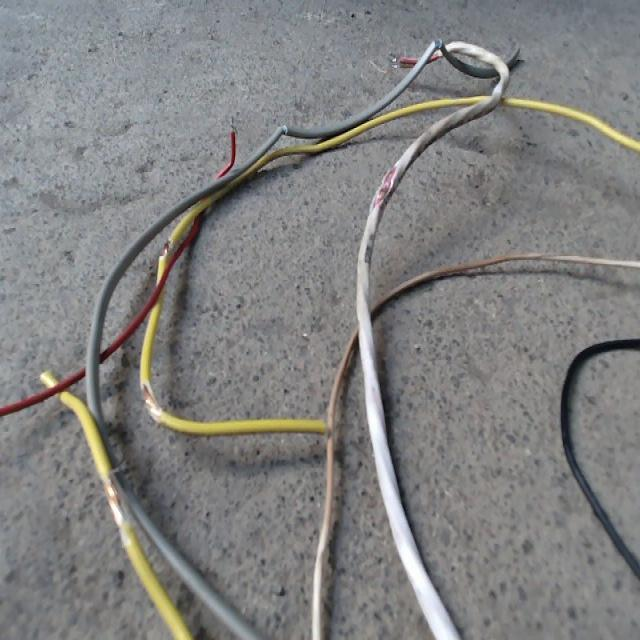-: (101, 474, 127, 530), (367, 163, 398, 209), (138, 382, 163, 422), (157, 236, 173, 259)
